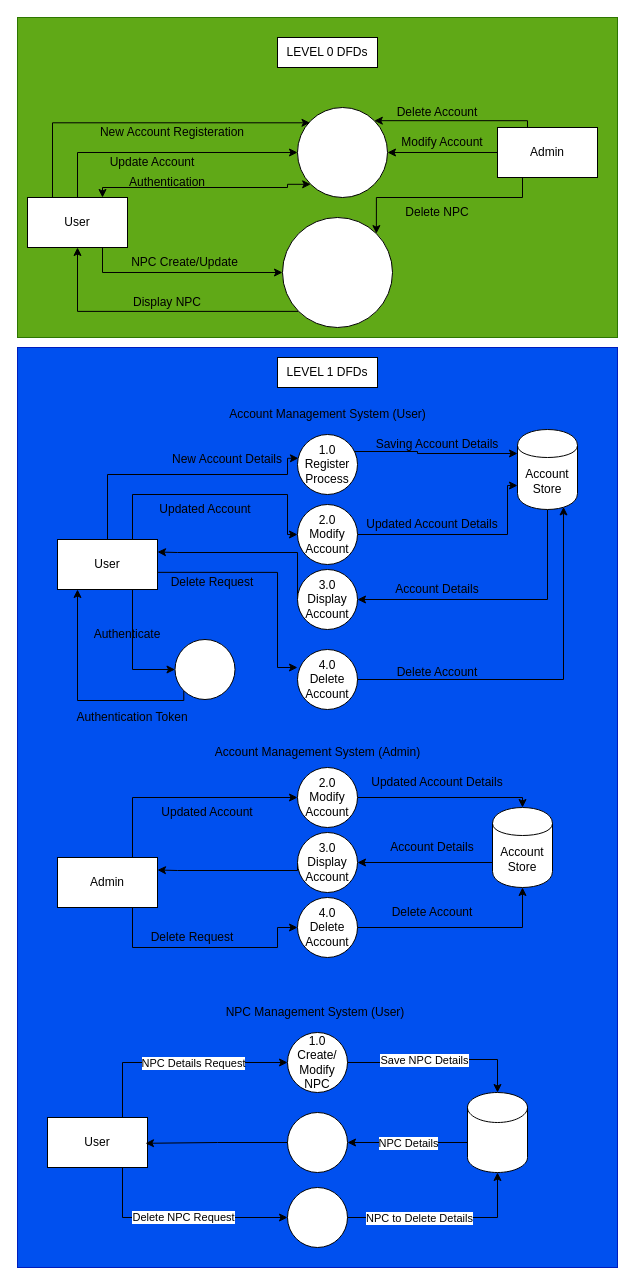
The diagram is 635 pixels wide and 1285 high, and some of its shapes have lost their labels. Each missing label, with the centre of its shape:
2.0 Retrieve NPC(s): the point at 317,1142
3.0 Delete NPC: the point at 317,1217
5.0 Auth: the point at 204,669
Account Management: the point at 342,152
NPC Store: the point at 497,1132
NPC System: the point at 337,272
